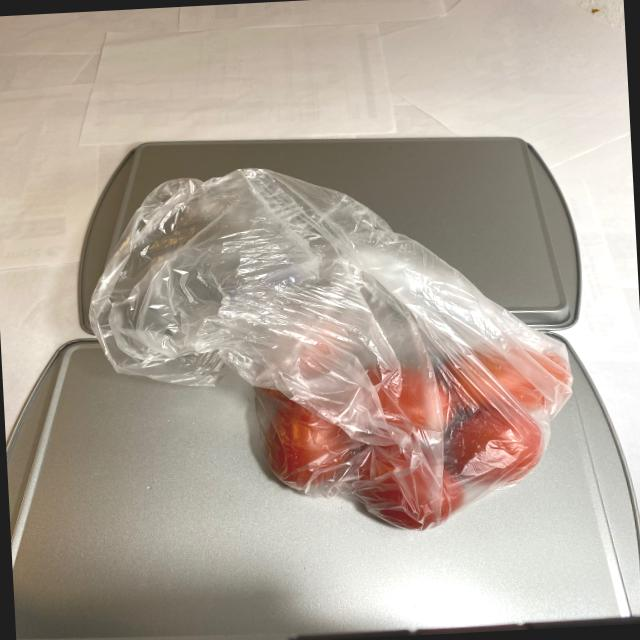tomato: (237, 312, 580, 542)
